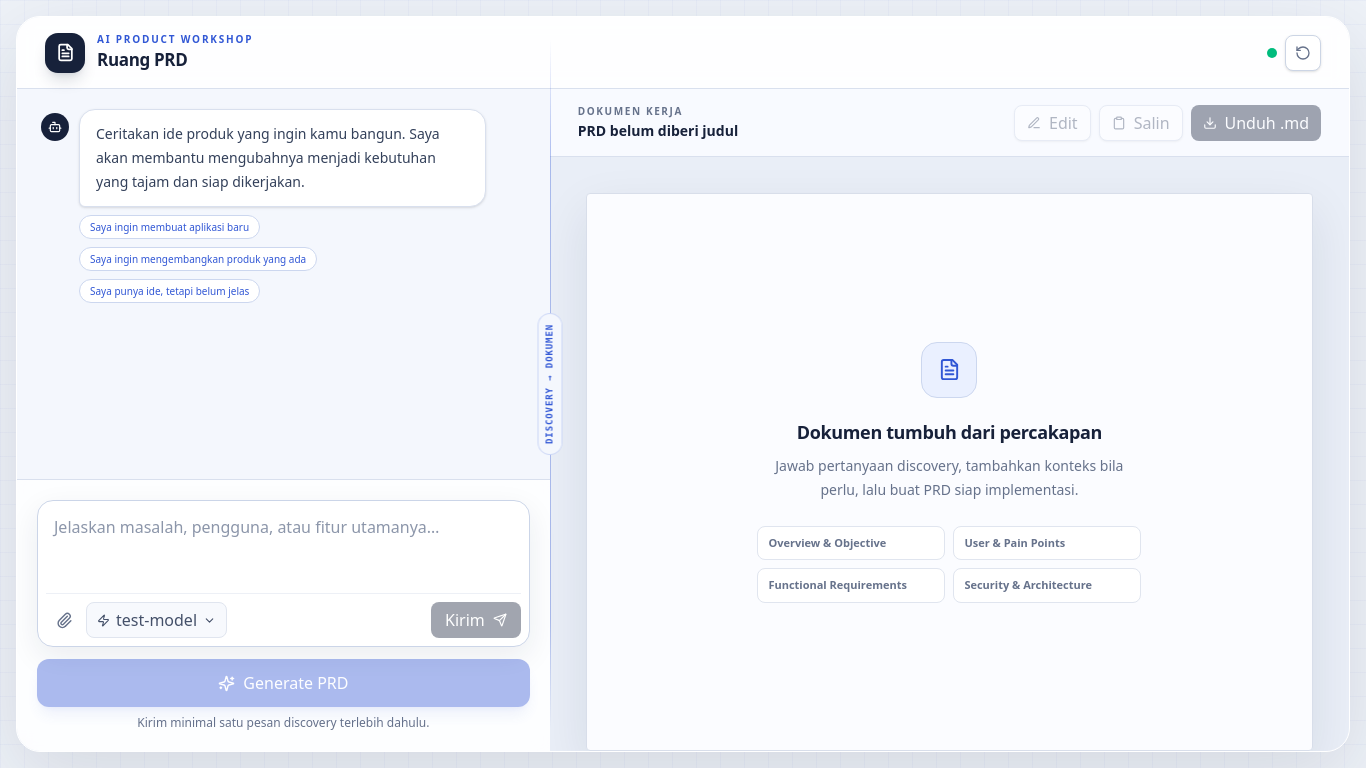
Scenario: Ruang PRD › merender Markdown pada balasan chatbot
The image size is (1366, 768).
In the text box named "Pesan discovery": point(283, 551) [46,509,521,593], type "Aplikasi untuk pasien klinik"
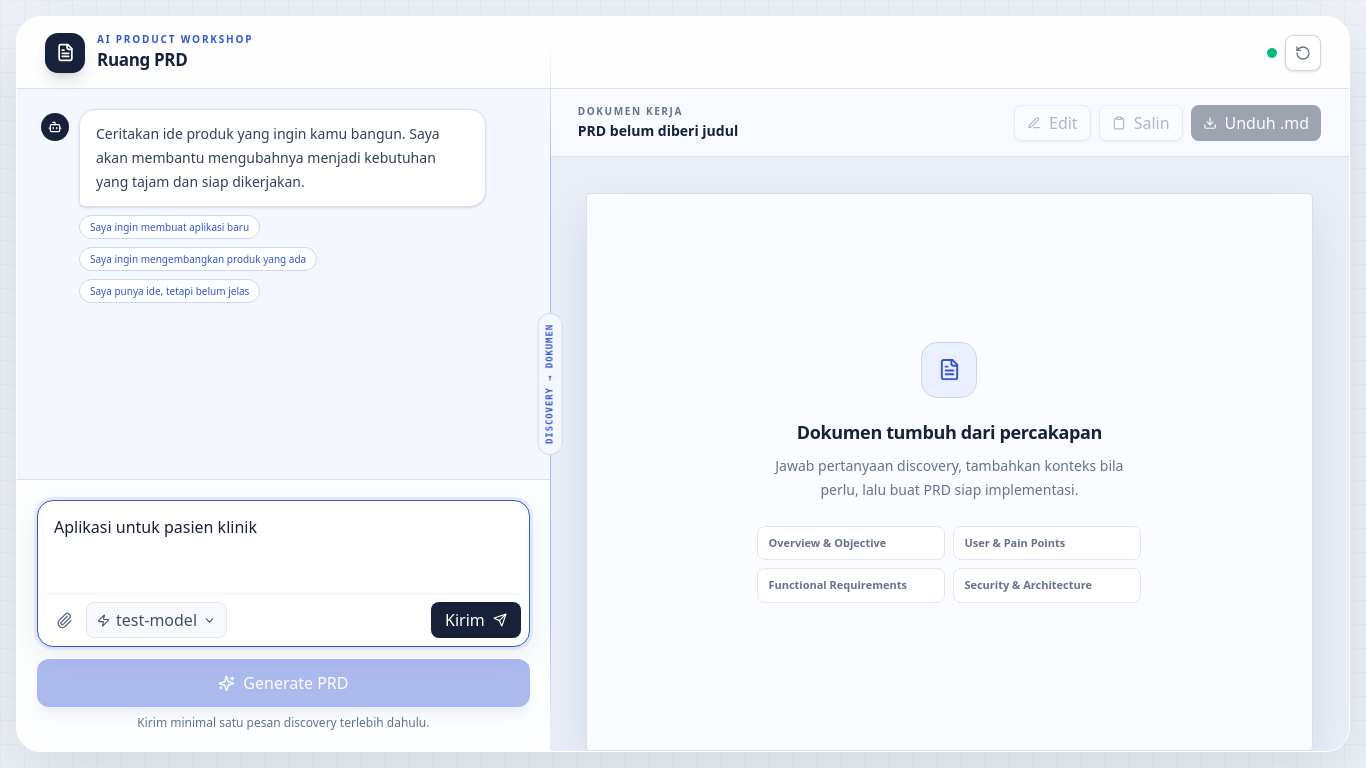
Click the button "Kirim": point(476, 620) [431,602,521,638]
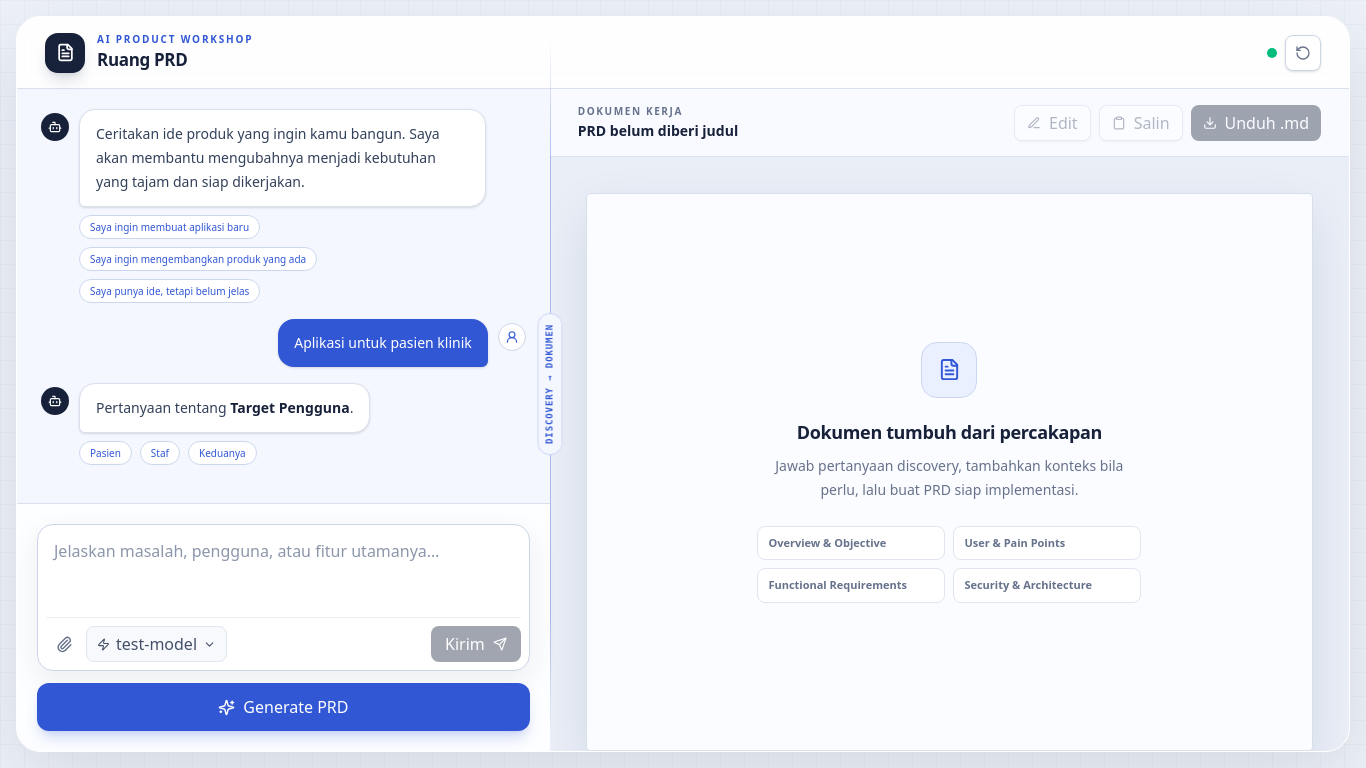
expect the text "Target Pengguna" is shown: met, box [230,398,350,417]
